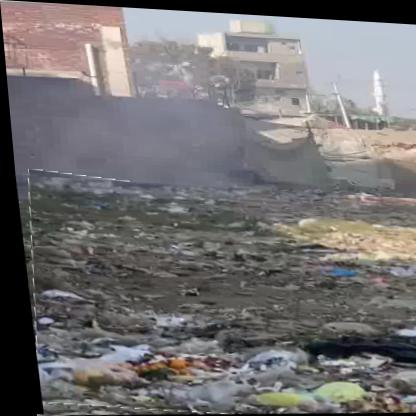Garbage: (13, 176, 416, 416)
